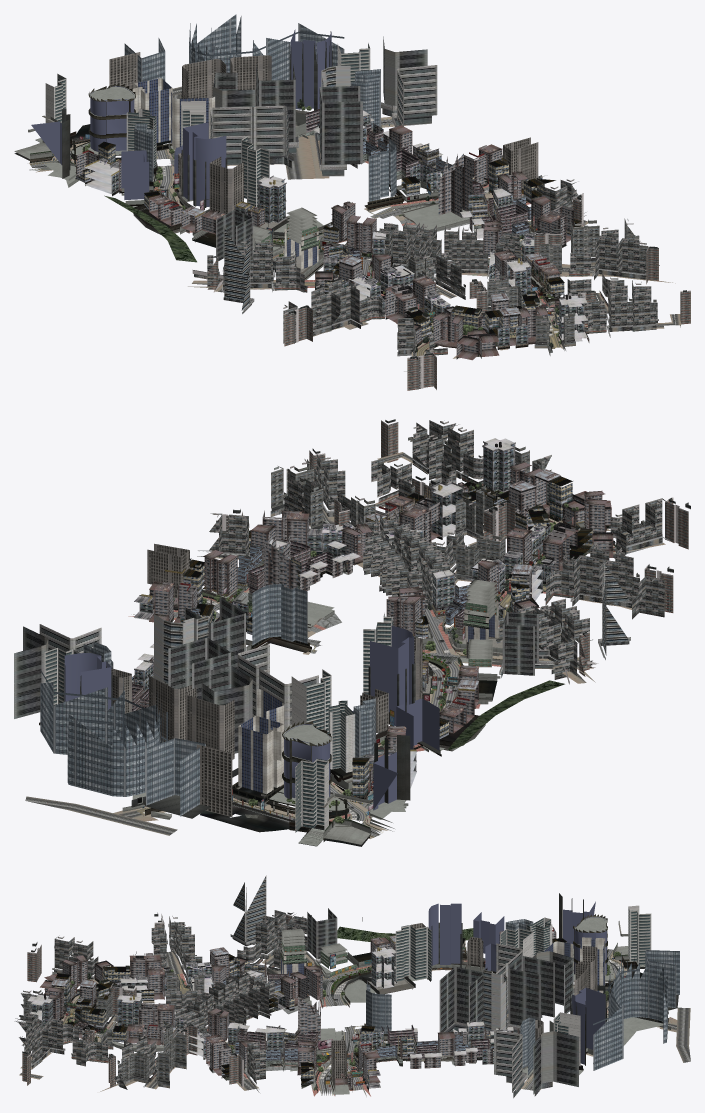
Rendered from city_germany.glb.
3 renders of one model, top to bottom at view 1: azimuth 30°, elevation 25°; view 2: azimuth 150°, elevation 25°; view 3: azimuth 270°, elevation 25°, orthographic. The views are drawn at different scales.
Size of what is drawn, in the model's own units: 572 by 140 by 1012.
98 materials, 98 textured.
